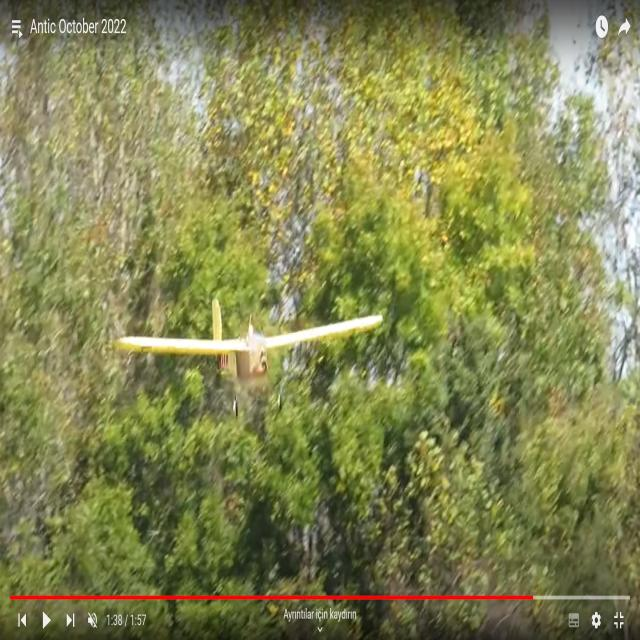iha: (116, 323, 379, 385)
